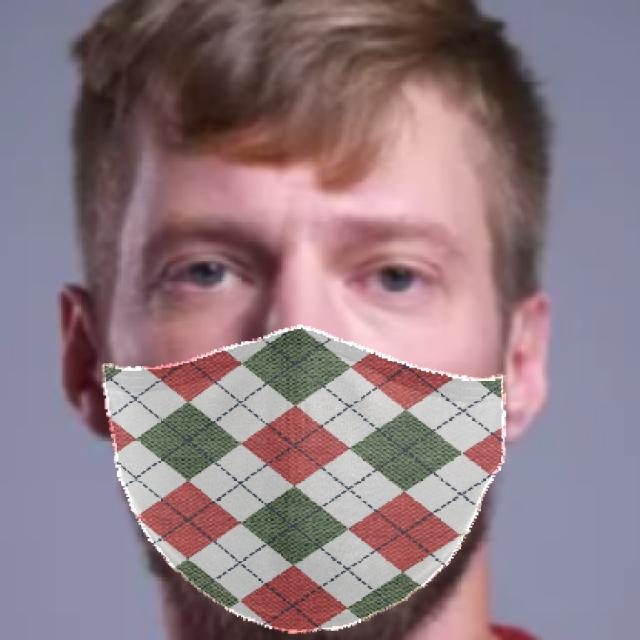mask: (87, 303, 526, 640)
